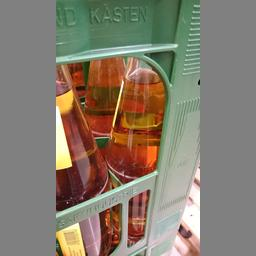juice: (55, 64, 114, 254), (108, 58, 166, 246)
